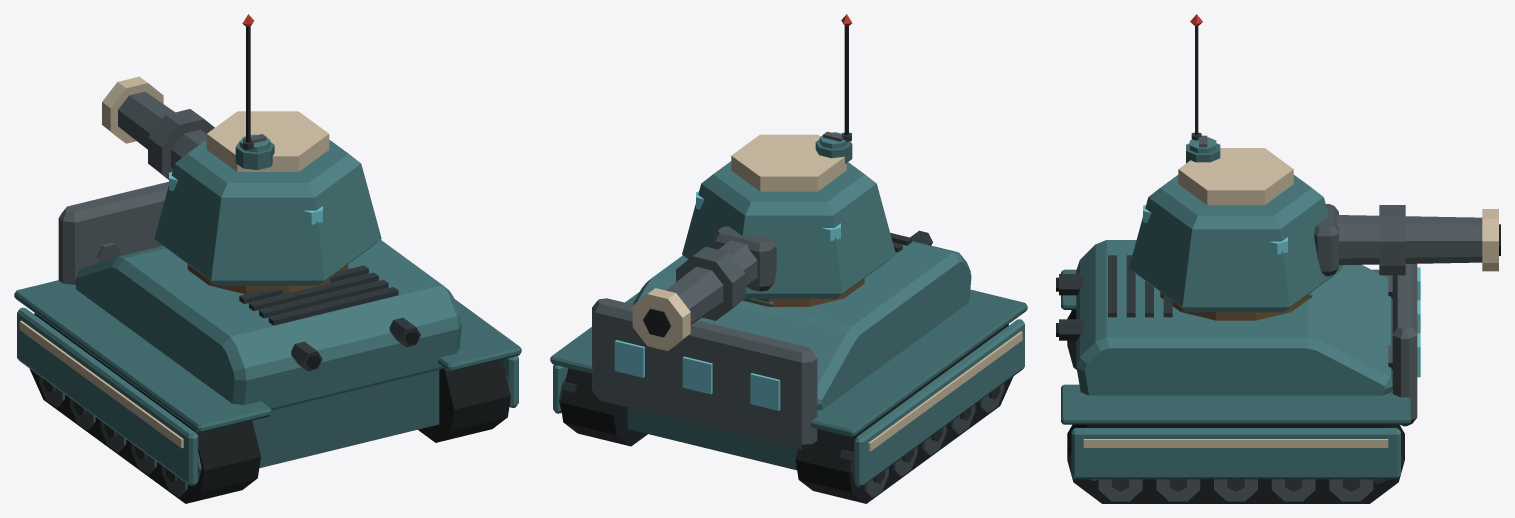
3 renders of one model, left to right at view 1: azimuth 30°, elevation 25°; view 2: azimuth 150°, elevation 25°; view 3: azimuth 270°, elevation 25°, orthographic. The views are drawn at different scales.
Visible parts, largest first — view 1: hull_08, turret_08; view 2: hull_08, turret_08; view 3: hull_08, turret_08.
Boxes of the visible parts, x1=… form: hull_08: x1=14, y1=181, x2=521, y2=503; turret_08: x1=102, y1=14, x2=381, y2=294; hull_08: x1=550, y1=230, x2=1027, y2=503; turret_08: x1=632, y1=14, x2=895, y2=350; hull_08: x1=1056, y1=240, x2=1420, y2=503; turret_08: x1=1129, y1=14, x2=1500, y2=320.
Bounding box in the file's own units: 0.884 × 1.07 × 1.08.
